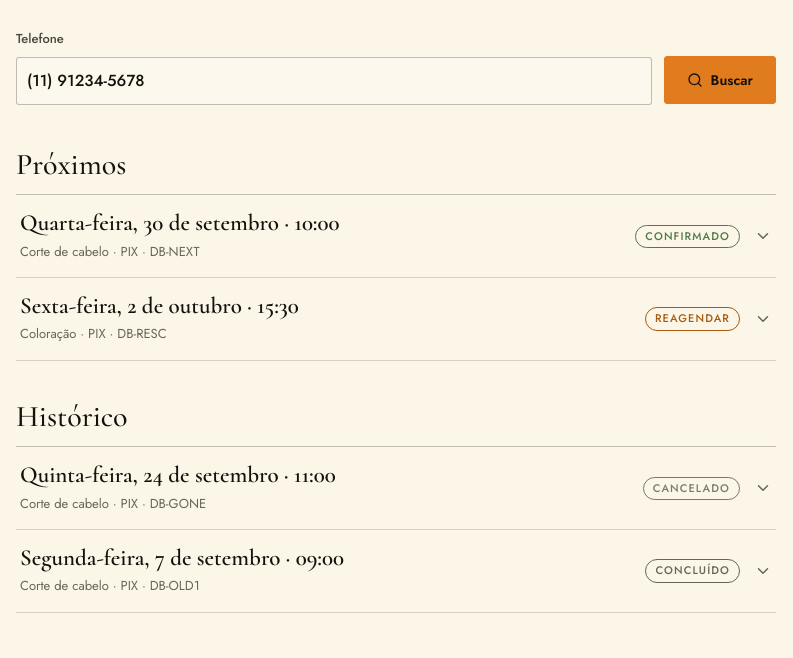
Test case: React Meus agendamentos › shows the legacy details and the reschedule request
(page scrolled)
Check: the heading "Próximos" is shown, box [16,146,126,183]
What coordinates should you click on to do the following:
click the button "DB-OLD1"
I would click on:
 (156, 558)
Its box is [16,530,776,612].
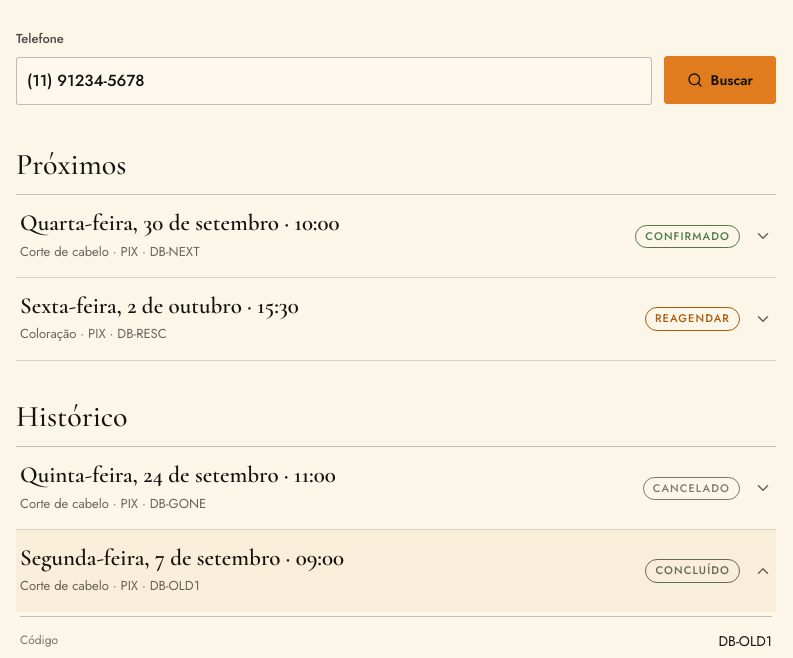
What coordinates should you click on to do the following:
click the button "DB-RESC"
I would click on:
 (137, 306)
Its box is [16,278,776,360].
(page scrolled)
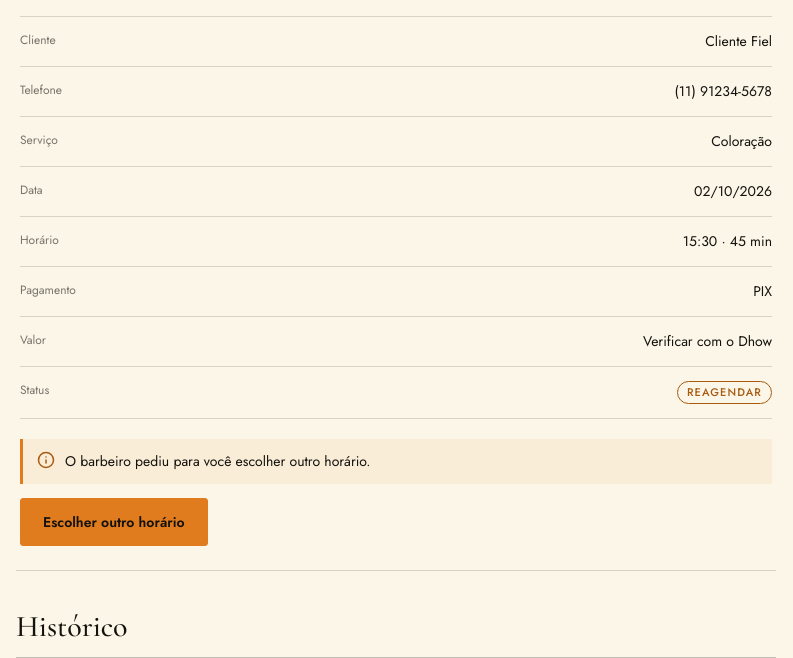
Check: the text "O barbeiro pediu para você escolher outro horário." is shown, box [20,439,772,484]
Check: the text "Verificar com o Dhow" is shown, box [643,331,772,351]
